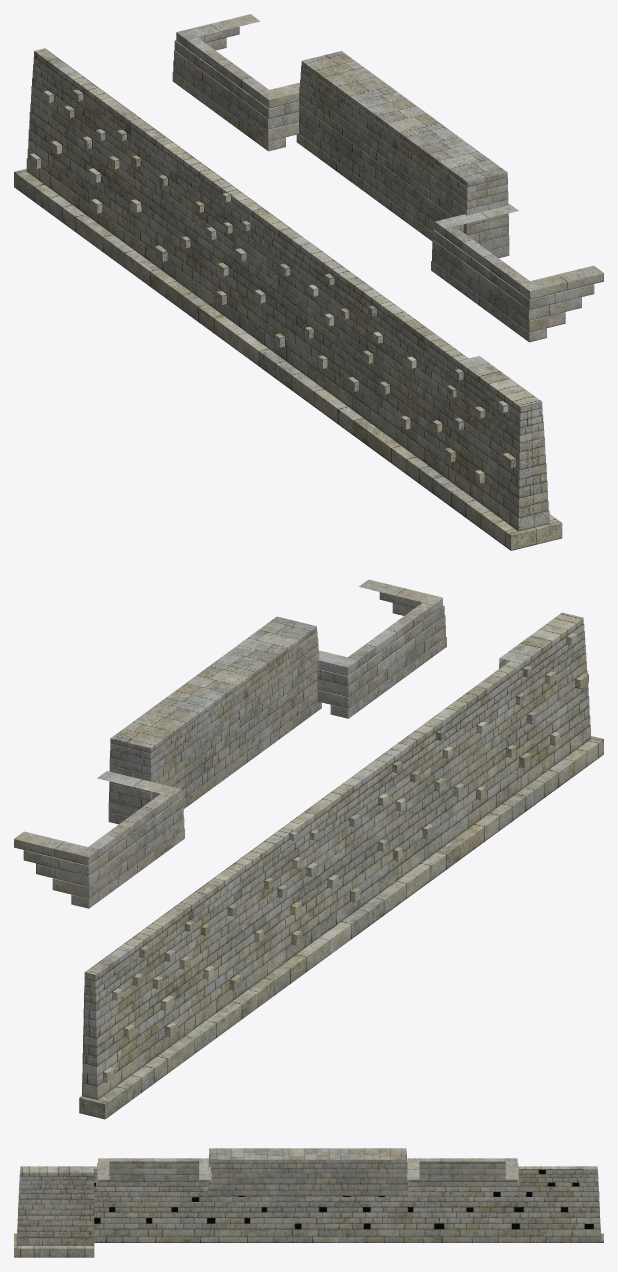
The model's file is abut_e.glb.
The picture shows the model from 3 angles, top to bottom: view 1: azimuth 30°, elevation 25°; view 2: azimuth 150°, elevation 25°; view 3: azimuth 270°, elevation 25°; orthographic projection. The views are drawn at different scales.
Visible parts, largest first — view 1: SM_24ET0016_M001, SM_24ET0016_M002; view 2: SM_24ET0016_M001, SM_24ET0016_M002; view 3: SM_24ET0016_M001, SM_24ET0016_M002.
Part boxes in pixels (x1,y1,x2,y2): SM_24ET0016_M001: (14,48,562,550); SM_24ET0016_M002: (172,14,603,342); SM_24ET0016_M001: (79,612,603,1119); SM_24ET0016_M002: (14,579,446,908); SM_24ET0016_M001: (14,1166,603,1257); SM_24ET0016_M002: (96,1148,519,1202).
Bounding box in the file's own units: 6.96 × 8.87 × 36.58.
Materials: 2 (2 with a texture image).
